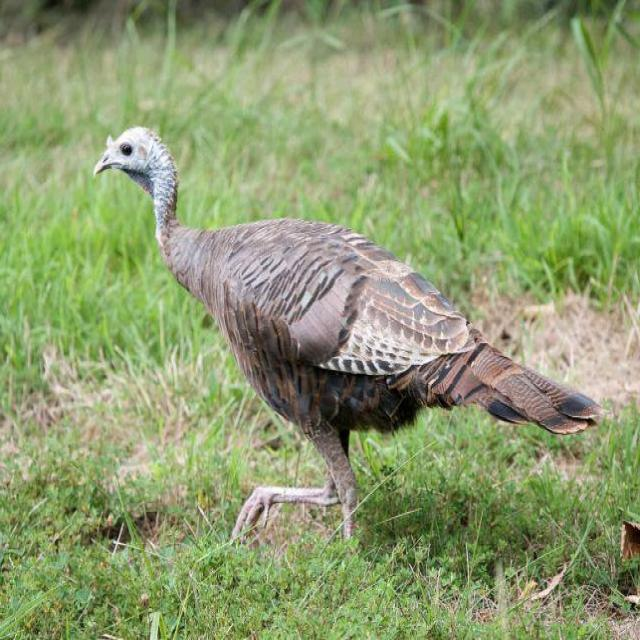turkey: (96, 127, 600, 538)
